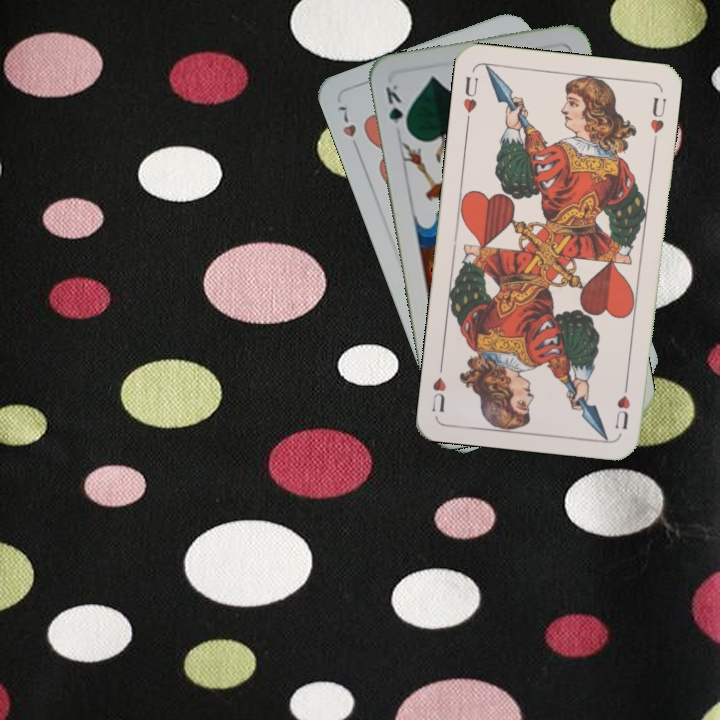GK: (381, 80, 411, 136)
H7: (333, 102, 363, 156)
HU: (611, 376, 633, 432), (459, 72, 481, 127)
